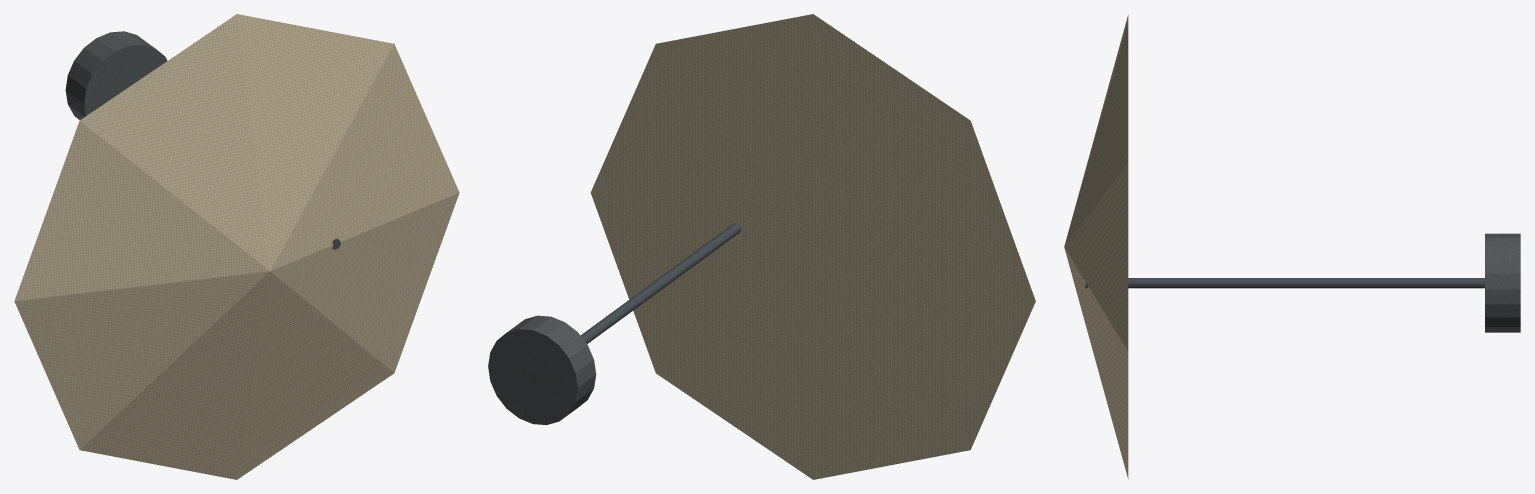
File: garden_umbrella.obj
3 views of the same model, side by side, from view 1: azimuth 30°, elevation 25°; view 2: azimuth 150°, elevation 25°; view 3: azimuth 270°, elevation 25° (orthographic). The views are drawn at different scales.
Parts seen in each view (by area): view 1: garden_umbrella_fabric, garden_umbrella_stone; view 2: garden_umbrella_fabric, garden_umbrella_stone, garden_umbrella_metal; view 3: garden_umbrella_fabric, garden_umbrella_metal, garden_umbrella_stone.
Boxes of the visible parts, x1,y1,x2,y2 form: garden_umbrella_fabric: (14,14,459,479); garden_umbrella_stone: (65,31,167,119); garden_umbrella_fabric: (590,14,1035,479); garden_umbrella_stone: (488,315,596,424); garden_umbrella_metal: (528,223,740,382); garden_umbrella_fabric: (1064,15,1128,478); garden_umbrella_metal: (1085,278,1484,288); garden_umbrella_stone: (1485,233,1520,332).
Size of the model in its own units: 139 by 139 by 128.
3 materials, 3 textured.
